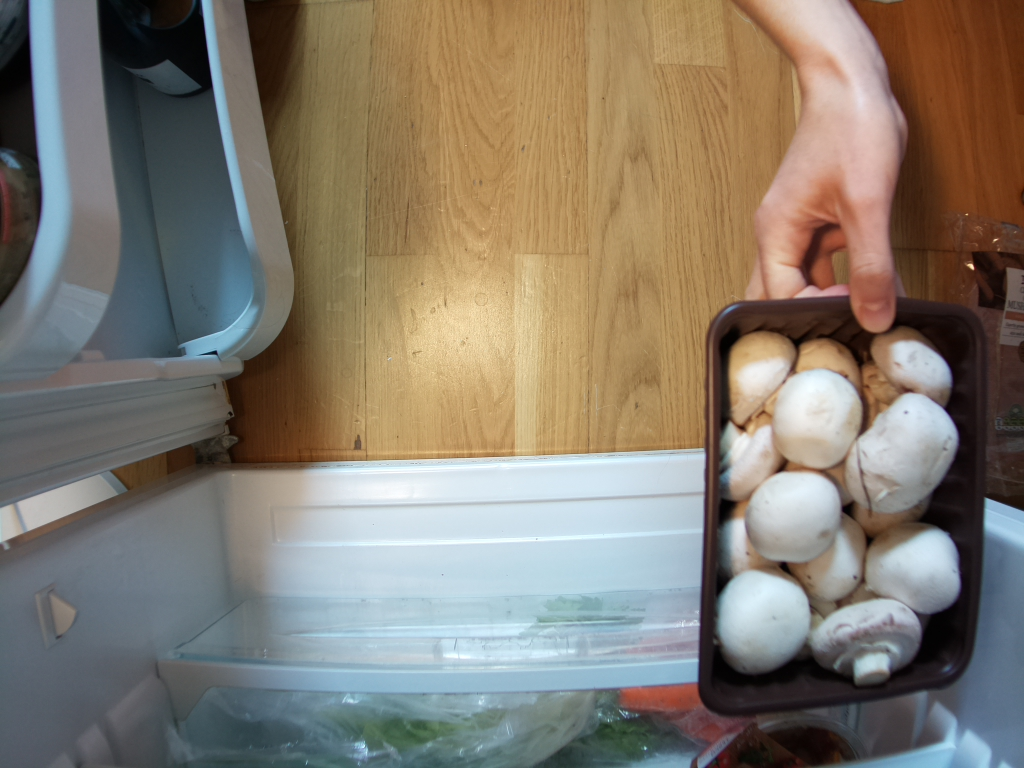mushrooms: (697, 295, 980, 711)
